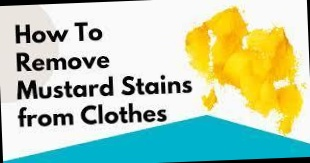mustard: (181, 14, 298, 78), (218, 65, 302, 104), (209, 3, 250, 50), (277, 94, 303, 137), (249, 94, 282, 116), (199, 85, 220, 110)
